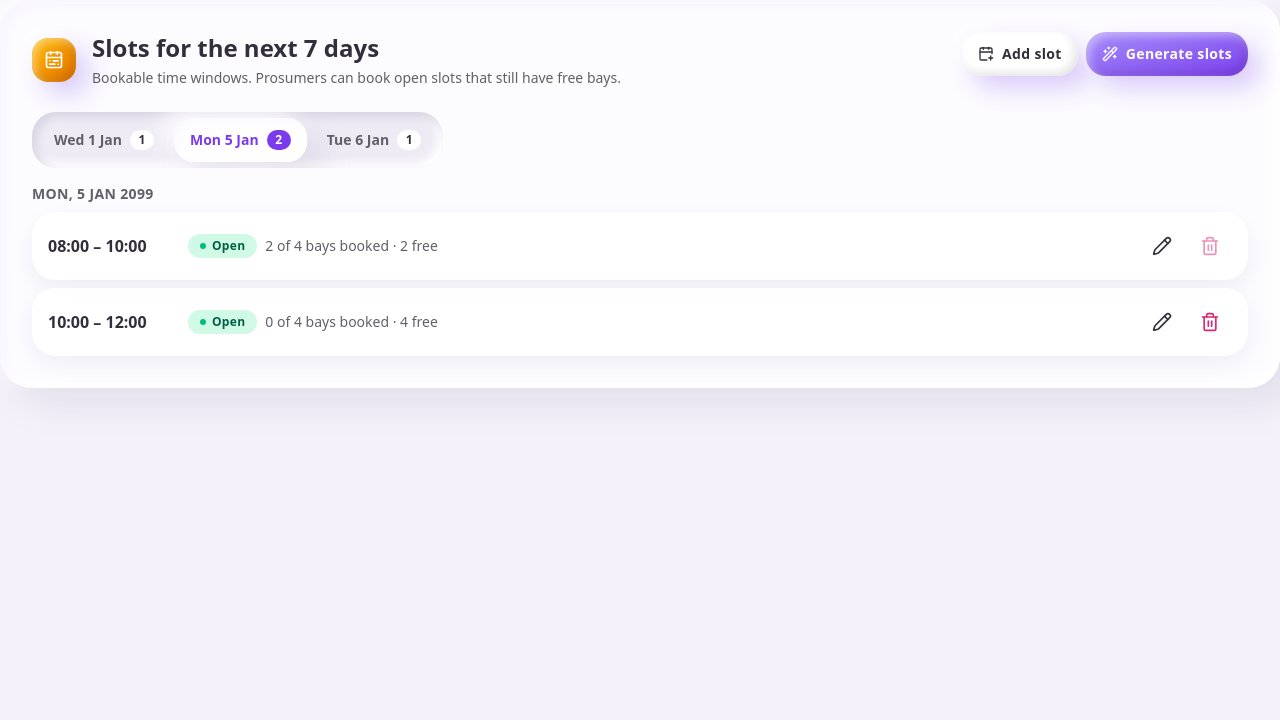
Test: SlotsPanel › changes capacity and closes a slot
Expected: the element "5 Jan" is shown, [32,184,1248,356]
Click the button named "Change slot" in the row of "10:00 – 12:00". click: (1162, 322)
box: [1140,300,1184,344]
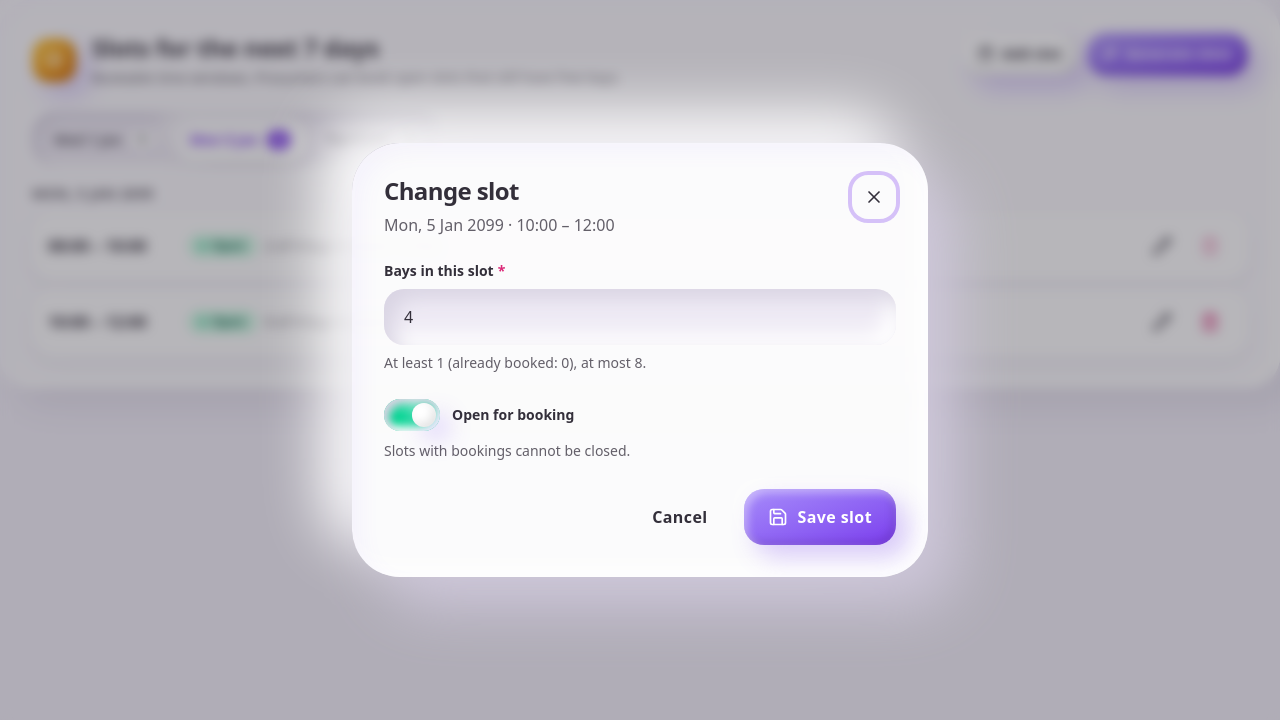
Replace the text in the number field labelled "Bays in this slot" with "2". click: (640, 317)
box: [384,289,896,345]
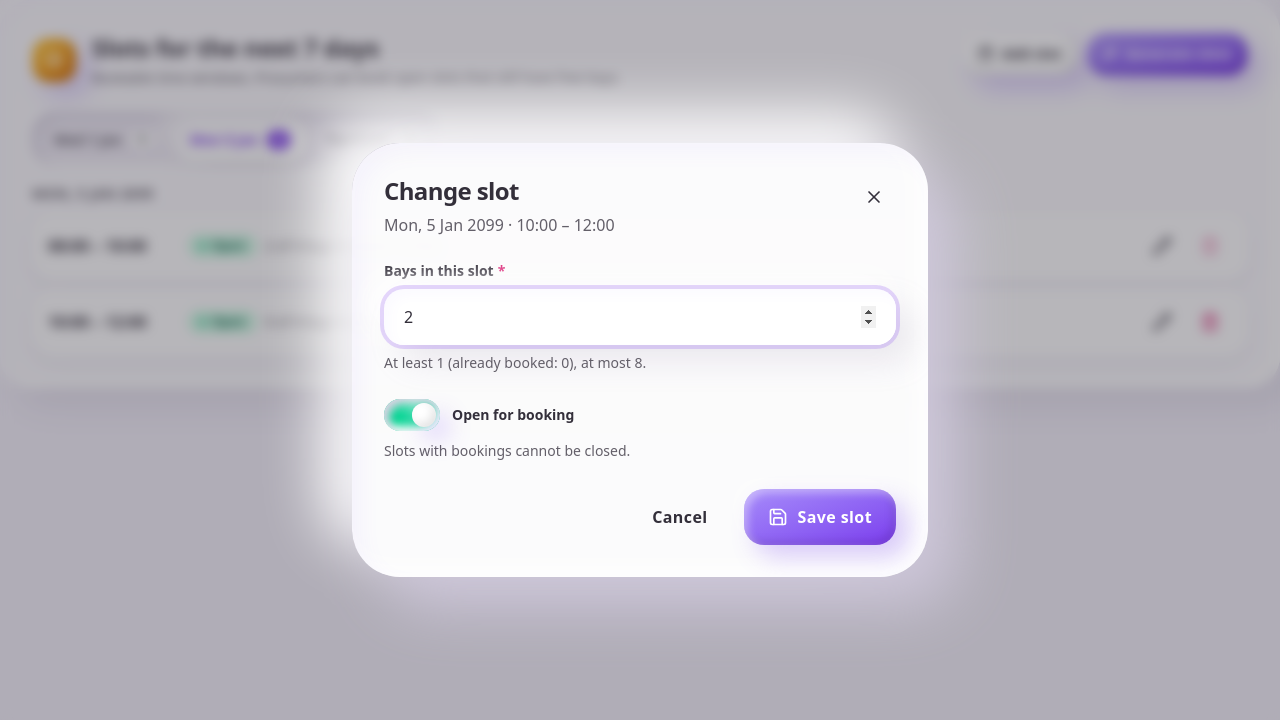
Click the switch labelled "Open for booking". click: (412, 415)
box: [384,393,896,437]
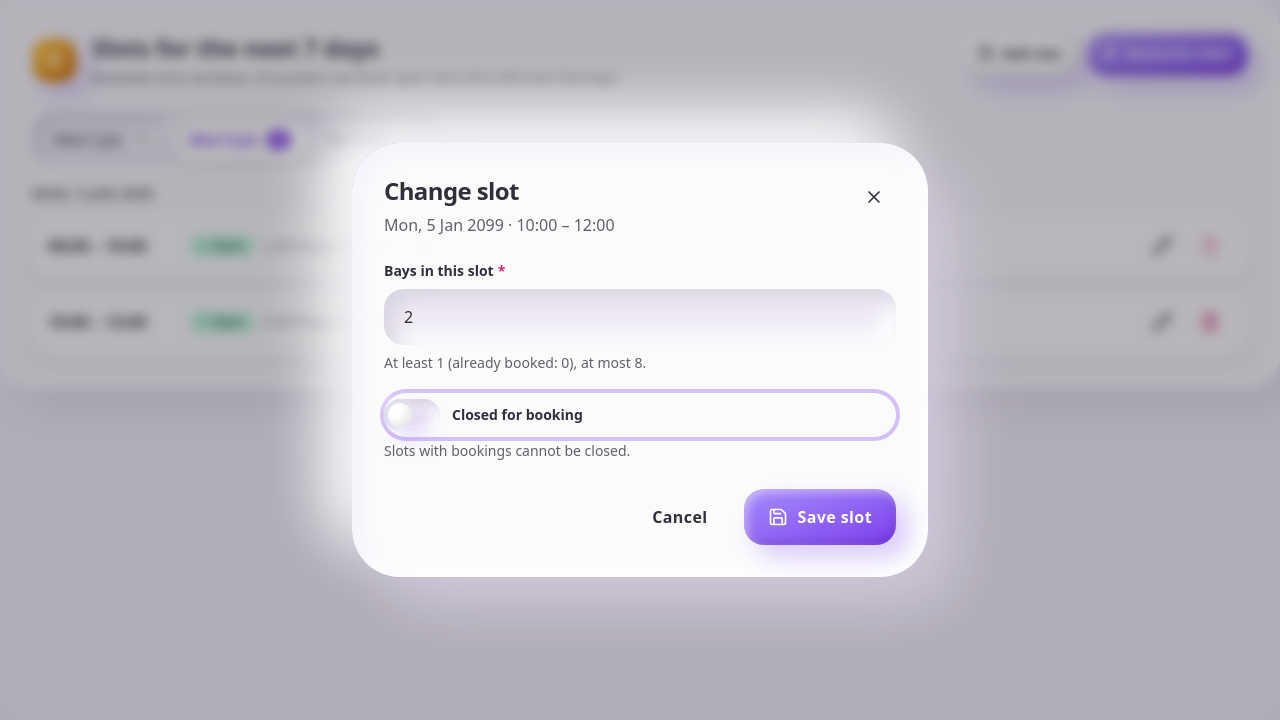
Click the button "Save slot". click: (820, 517)
box: [744,489,896,545]
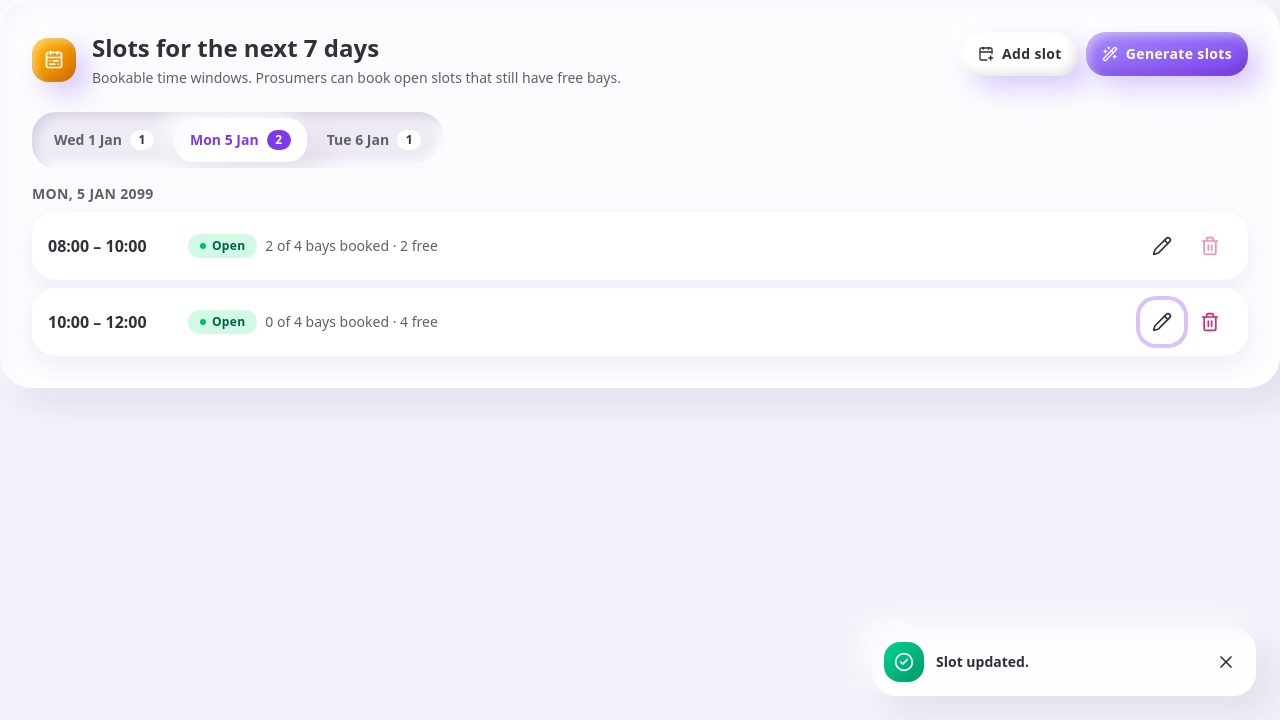
Expected: the text "Slot updated." is shown, [936,652,1029,671]
